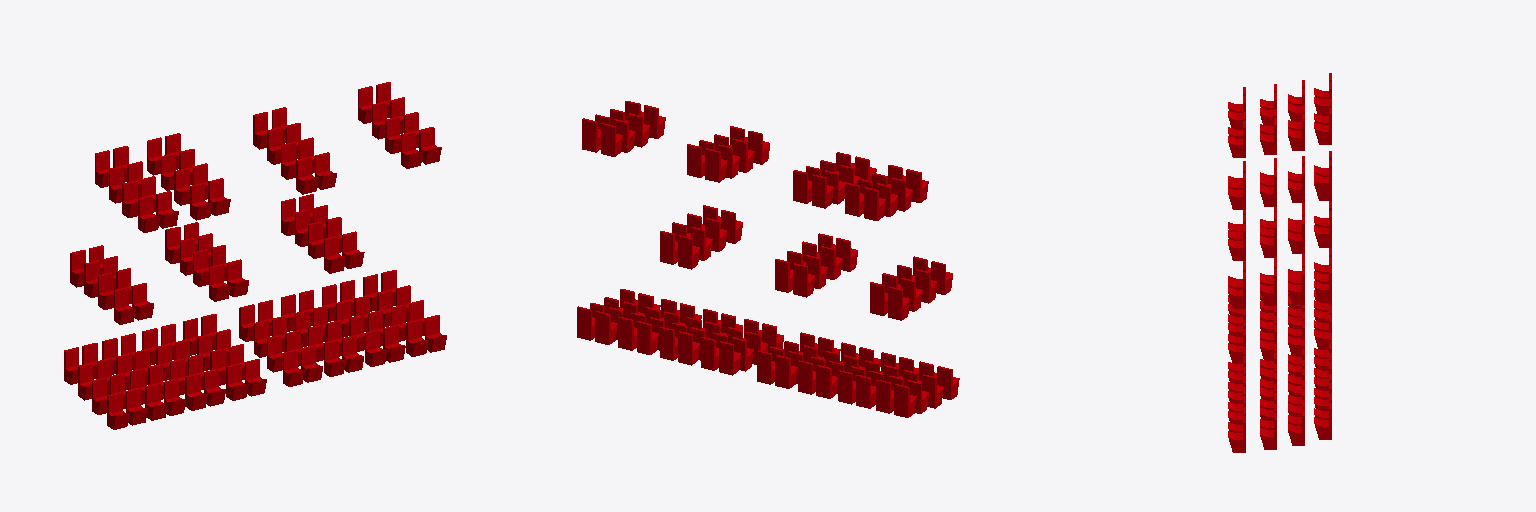
Rendered from chairs.obj.
The picture shows the model from 3 angles: view 1: azimuth 30°, elevation 25°; view 2: azimuth 150°, elevation 25°; view 3: azimuth 270°, elevation 25°; orthographic projection.
Parts seen in each view (by area): view 1: Cube.081; view 2: Cube.081; view 3: Cube.081.
Boxes of the visible parts, <box> form: Cube.081: <box>64,82,446,429</box>; Cube.081: <box>577,101,959,417</box>; Cube.081: <box>1228,73,1331,452</box>.
Size of the model in its own units: 37.11 by 24.91 by 10.01.